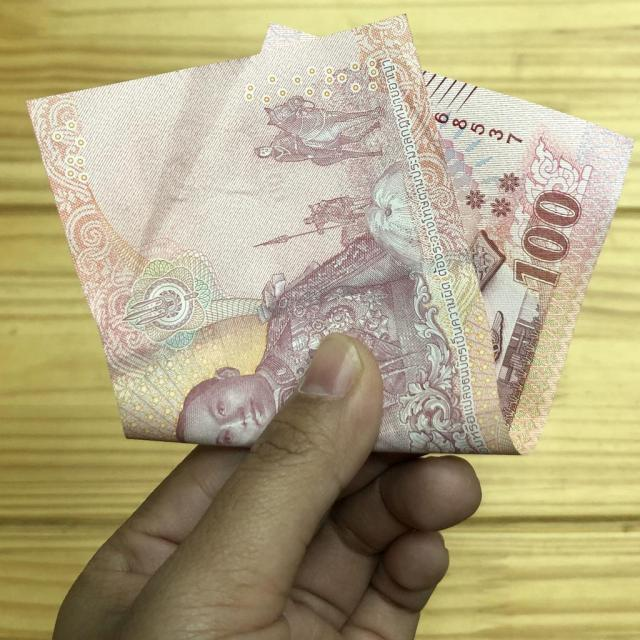THAI100: (27, 14, 633, 459)
